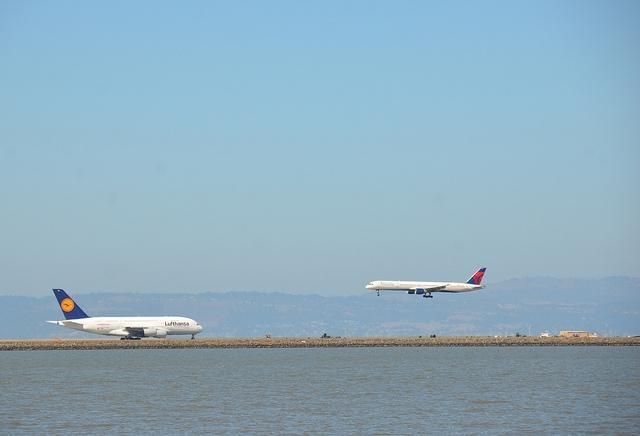bus: (560, 331, 586, 337)
